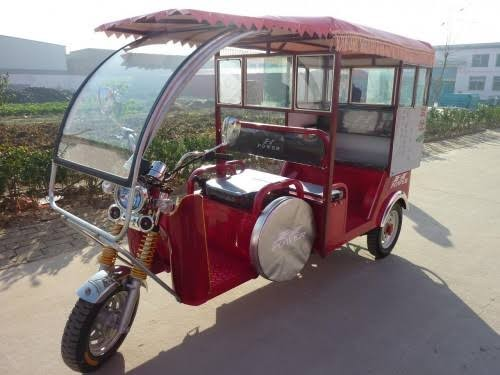bus: (42, 5, 438, 371)
